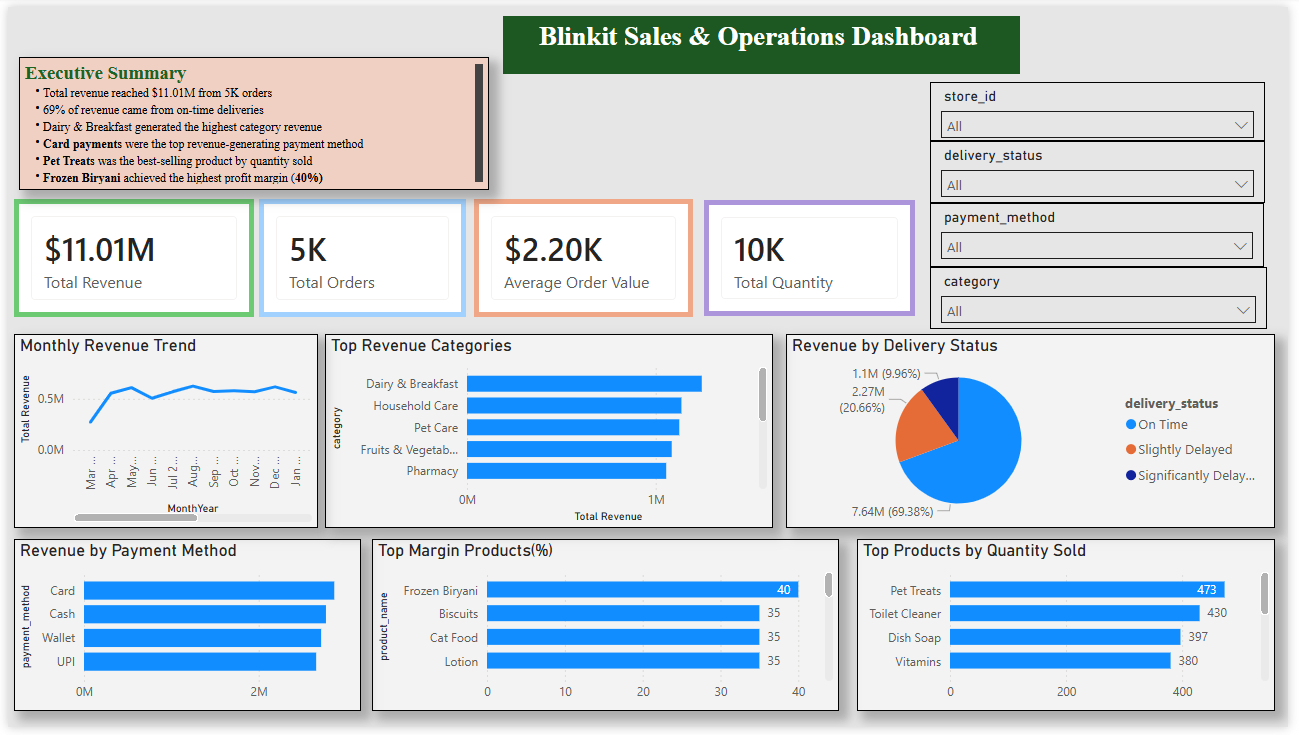

The page's visual inventory and layout, read from the dashboard file:
{"tool":"powerbi","page":{"name":"Page 1","canvas":[1280,720],"ordinal":0},"visuals":[{"type":"cardVisual","fields":{"Data":["blinkit_order_items.Total Revenue"]},"box":[6,192,240,118],"z":0},{"type":"cardVisual","fields":{"Data":["blinkit_order_items.Average Order Value"]},"box":[466,192,219,118],"z":1000},{"type":"cardVisual","fields":{"Data":["blinkit_order_items.Total Orders"]},"box":[251,192,207,118],"z":2000},{"type":"cardVisual","fields":{"Data":["blinkit_order_items.Total Quantity"]},"box":[696,193,211,116],"z":3000},{"type":"lineChart","title":"Monthly Revenue Trend ","fields":{"Y":["blinkit_order_items.Total Revenue"],"Category":["blinkit_orders.MonthYear"]},"box":[6,327,304,194],"z":4000},{"type":"pieChart","title":"Revenue by Delivery Status ","fields":{"Category":["blinkit_orders.delivery_status"],"Y":["Sum(blinkit_orders.order_total)"]},"box":[778,327,489,194],"z":5000},{"type":"clusteredBarChart","title":"Revenue by Payment Method ","fields":{"Y":["Sum(blinkit_orders.order_total)"],"Category":["blinkit_orders.payment_method"]},"box":[6,532,347,172],"z":6000},{"type":"clusteredBarChart","title":"Top Revenue Categories ","fields":{"Category":["blinkit_products.category"],"Y":["blinkit_order_items.Total Revenue"]},"box":[317,327,448,194],"z":7000},{"type":"clusteredBarChart","title":"Top Products by Quantity Sold  ","fields":{"Category":["blinkit_products.product_name"],"Y":["blinkit_order_items.Total Quantity"]},"box":[849,532,418,172],"z":8000},{"type":"clusteredBarChart","title":"Top Margin Products(%)","fields":{"Category":["blinkit_products.product_name"],"Y":["Avg(blinkit_products.margin_percentage)"]},"box":[364,532,467,172],"z":9000},{"type":"slicer","fields":{"Values":["blinkit_products.category"]},"box":[922,260,337,62],"z":10000},{"type":"slicer","fields":{"Values":["blinkit_orders.delivery_status"]},"box":[922,134,335,62],"z":11000},{"type":"slicer","fields":{"Values":["blinkit_orders.payment_method"]},"box":[922,196,334,64],"z":12000},{"type":"textbox","box":[495,9,517,58],"z":13000},{"type":"slicer","fields":{"Values":["blinkit_orders.store_id"]},"box":[922,75,335,59],"z":13001},{"type":"textbox","box":[11,50,470,133],"z":13002}]}

Visuals, with their boxes in screenshot pixels (x1, y1, x2, y2), scaled from the page's 1280x720 canvas onto the 1299x735 screenshot:
cardVisual - blinkit_order_items.Total Revenue: 6, 196, 250, 316
cardVisual - blinkit_order_items.Average Order Value: 473, 196, 695, 316
cardVisual - blinkit_order_items.Total Orders: 255, 196, 465, 316
cardVisual - blinkit_order_items.Total Quantity: 706, 197, 920, 315
"Monthly Revenue Trend " lineChart: 6, 334, 315, 532
"Revenue by Delivery Status " pieChart: 790, 334, 1286, 532
"Revenue by Payment Method " clusteredBarChart: 6, 543, 358, 719
"Top Revenue Categories " clusteredBarChart: 322, 334, 776, 532
"Top Products by Quantity Sold  " clusteredBarChart: 862, 543, 1286, 719
"Top Margin Products(%)" clusteredBarChart: 369, 543, 843, 719
slicer - blinkit_products.category: 936, 265, 1278, 329
slicer - blinkit_orders.delivery_status: 936, 137, 1276, 200
slicer - blinkit_orders.payment_method: 936, 200, 1275, 265
textbox: 502, 9, 1027, 68
slicer - blinkit_orders.store_id: 936, 77, 1276, 137
textbox: 11, 51, 488, 187
